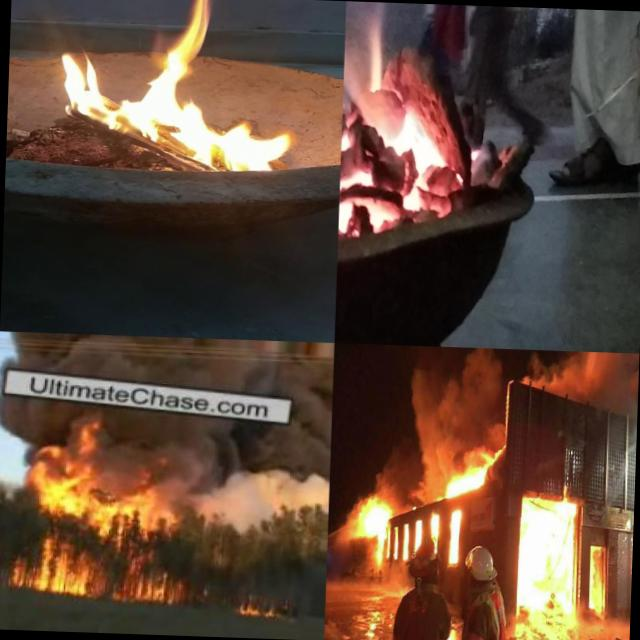fire: (43, 0, 294, 167), (337, 6, 466, 260), (1, 452, 182, 606), (516, 504, 574, 610), (230, 584, 298, 620), (357, 490, 389, 550), (442, 464, 486, 494), (448, 508, 460, 564), (586, 552, 594, 611), (430, 512, 440, 556), (399, 522, 410, 560), (389, 526, 398, 556), (412, 520, 421, 546)
smoke: (158, 417, 331, 533), (358, 380, 447, 510), (404, 362, 507, 459), (518, 350, 639, 426)
